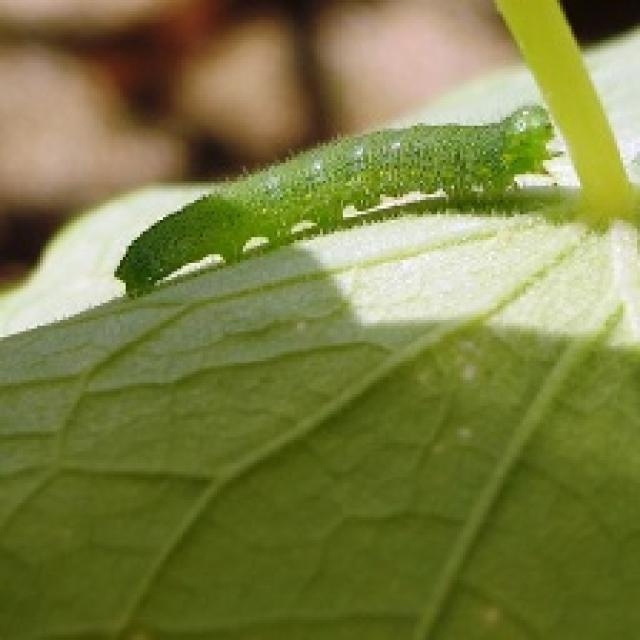Cabbage-worm: (104, 95, 569, 298)
